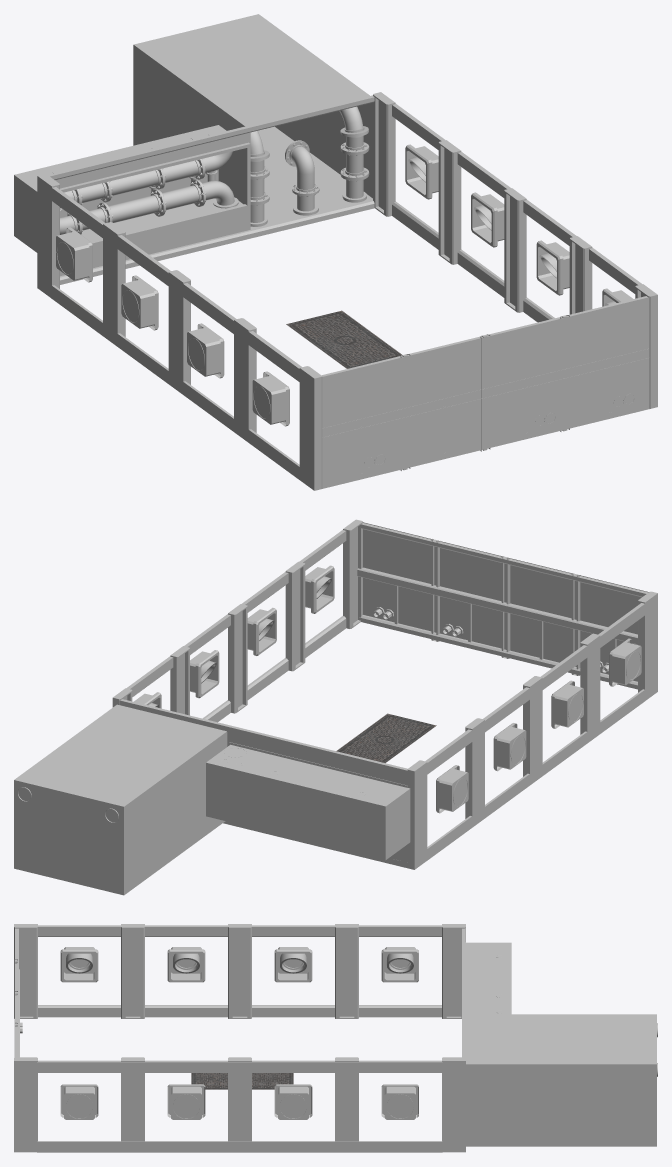
The model's file is TileWallDamaged.FBX.
3 renders of one model, top to bottom at view 1: azimuth 30°, elevation 25°; view 2: azimuth 150°, elevation 25°; view 3: azimuth 270°, elevation 25°, orthographic. The views are drawn at different scales.
Parts seen in each view (by area): view 1: TileWallDamaged (×3), PropRocketAeration (×2), PropRocketAeration001, AlphaVariousManhole, TileWallDamaged005, TileWallDamaged001, TileWallDamaged002, TileWallDamaged003, PropRocketAeration002; view 2: TileWallDamaged (×3), PropRocketAeration (×2), PropRocketAeration001, AlphaVariousManhole, PropRocketAeration002; view 3: PropRocketAeration (×3), TileWallDamaged, PropRocketAeration001, AlphaVariousManhole.
Boxes of the visible parts, x1,y1,x2,y2 form: TileWallDamaged (×3): [14, 14, 649, 488]; PropRocketAeration (×2): [47, 92, 657, 480]; PropRocketAeration001: [37, 174, 322, 490]; AlphaVariousManhole: [286, 310, 401, 368]; TileWallDamaged005: [60, 151, 232, 208]; TileWallDamaged001: [339, 106, 369, 202]; TileWallDamaged002: [285, 140, 319, 215]; TileWallDamaged003: [250, 130, 269, 226]; PropRocketAeration002: [408, 156, 616, 305]; TileWallDamaged (×3): [14, 522, 648, 895]; PropRocketAeration (×2): [112, 519, 648, 868]; PropRocketAeration001: [407, 591, 657, 869]; AlphaVariousManhole: [336, 713, 436, 763]; PropRocketAeration002: [148, 576, 331, 707]; PropRocketAeration (×3): [14, 925, 465, 1152]; TileWallDamaged: [465, 942, 656, 1146]; PropRocketAeration001: [14, 924, 465, 1018]; AlphaVariousManhole: [191, 1073, 293, 1089].
Size of the model in its own units: 306 by 90.73 by 568.
